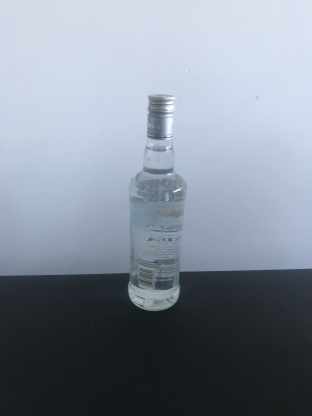nakretka: (144, 90, 176, 140)
